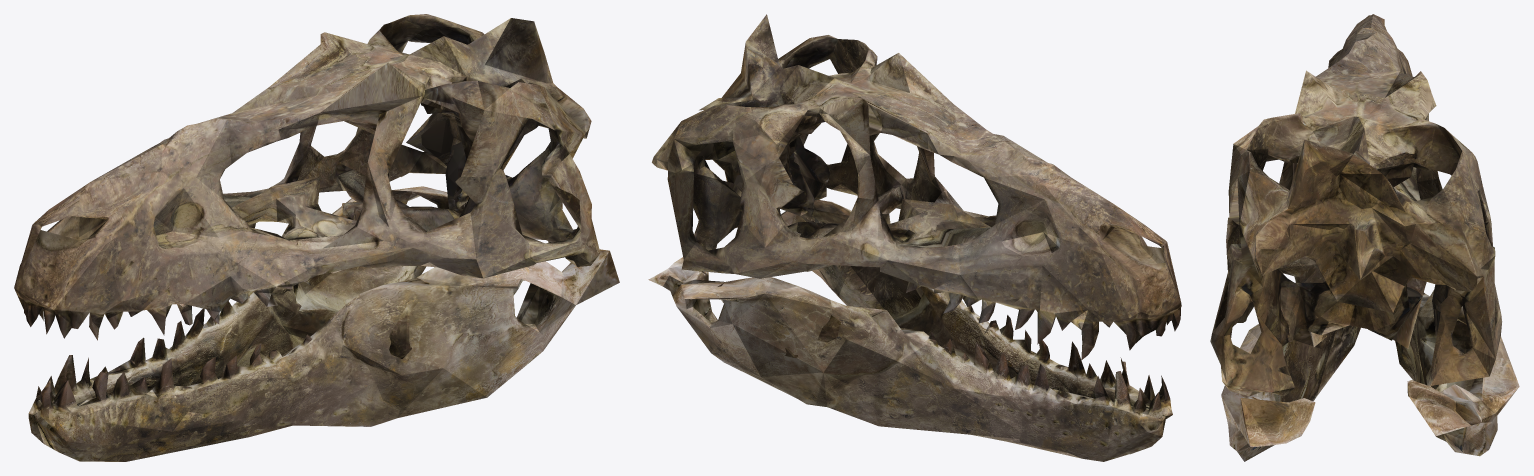
The model's file is Trex.obj.
3 views of the same model, side by side, from view 1: azimuth 30°, elevation 25°; view 2: azimuth 150°, elevation 25°; view 3: azimuth 270°, elevation 25° (orthographic). The views are drawn at different scales.
Visible parts, largest first — view 1: TERAT:Mesh; view 2: TERAT:Mesh; view 3: TERAT:Mesh.
Boxes of the visible parts, x1,y1,x2,y2 form: TERAT:Mesh: (14, 14, 619, 461); TERAT:Mesh: (648, 14, 1181, 461); TERAT:Mesh: (1210, 14, 1519, 461).
Size of the model in its own units: 1.6 by 1.02 by 0.733.
2 materials, 2 textured.
